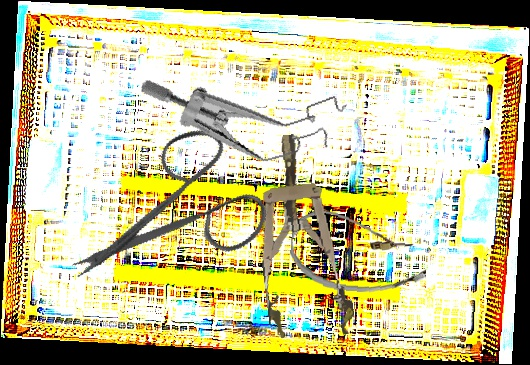Cannula: (287, 207, 431, 298)
Iris Scissors: (67, 102, 287, 336)
Speculum: (138, 29, 358, 193), (246, 129, 357, 344)
